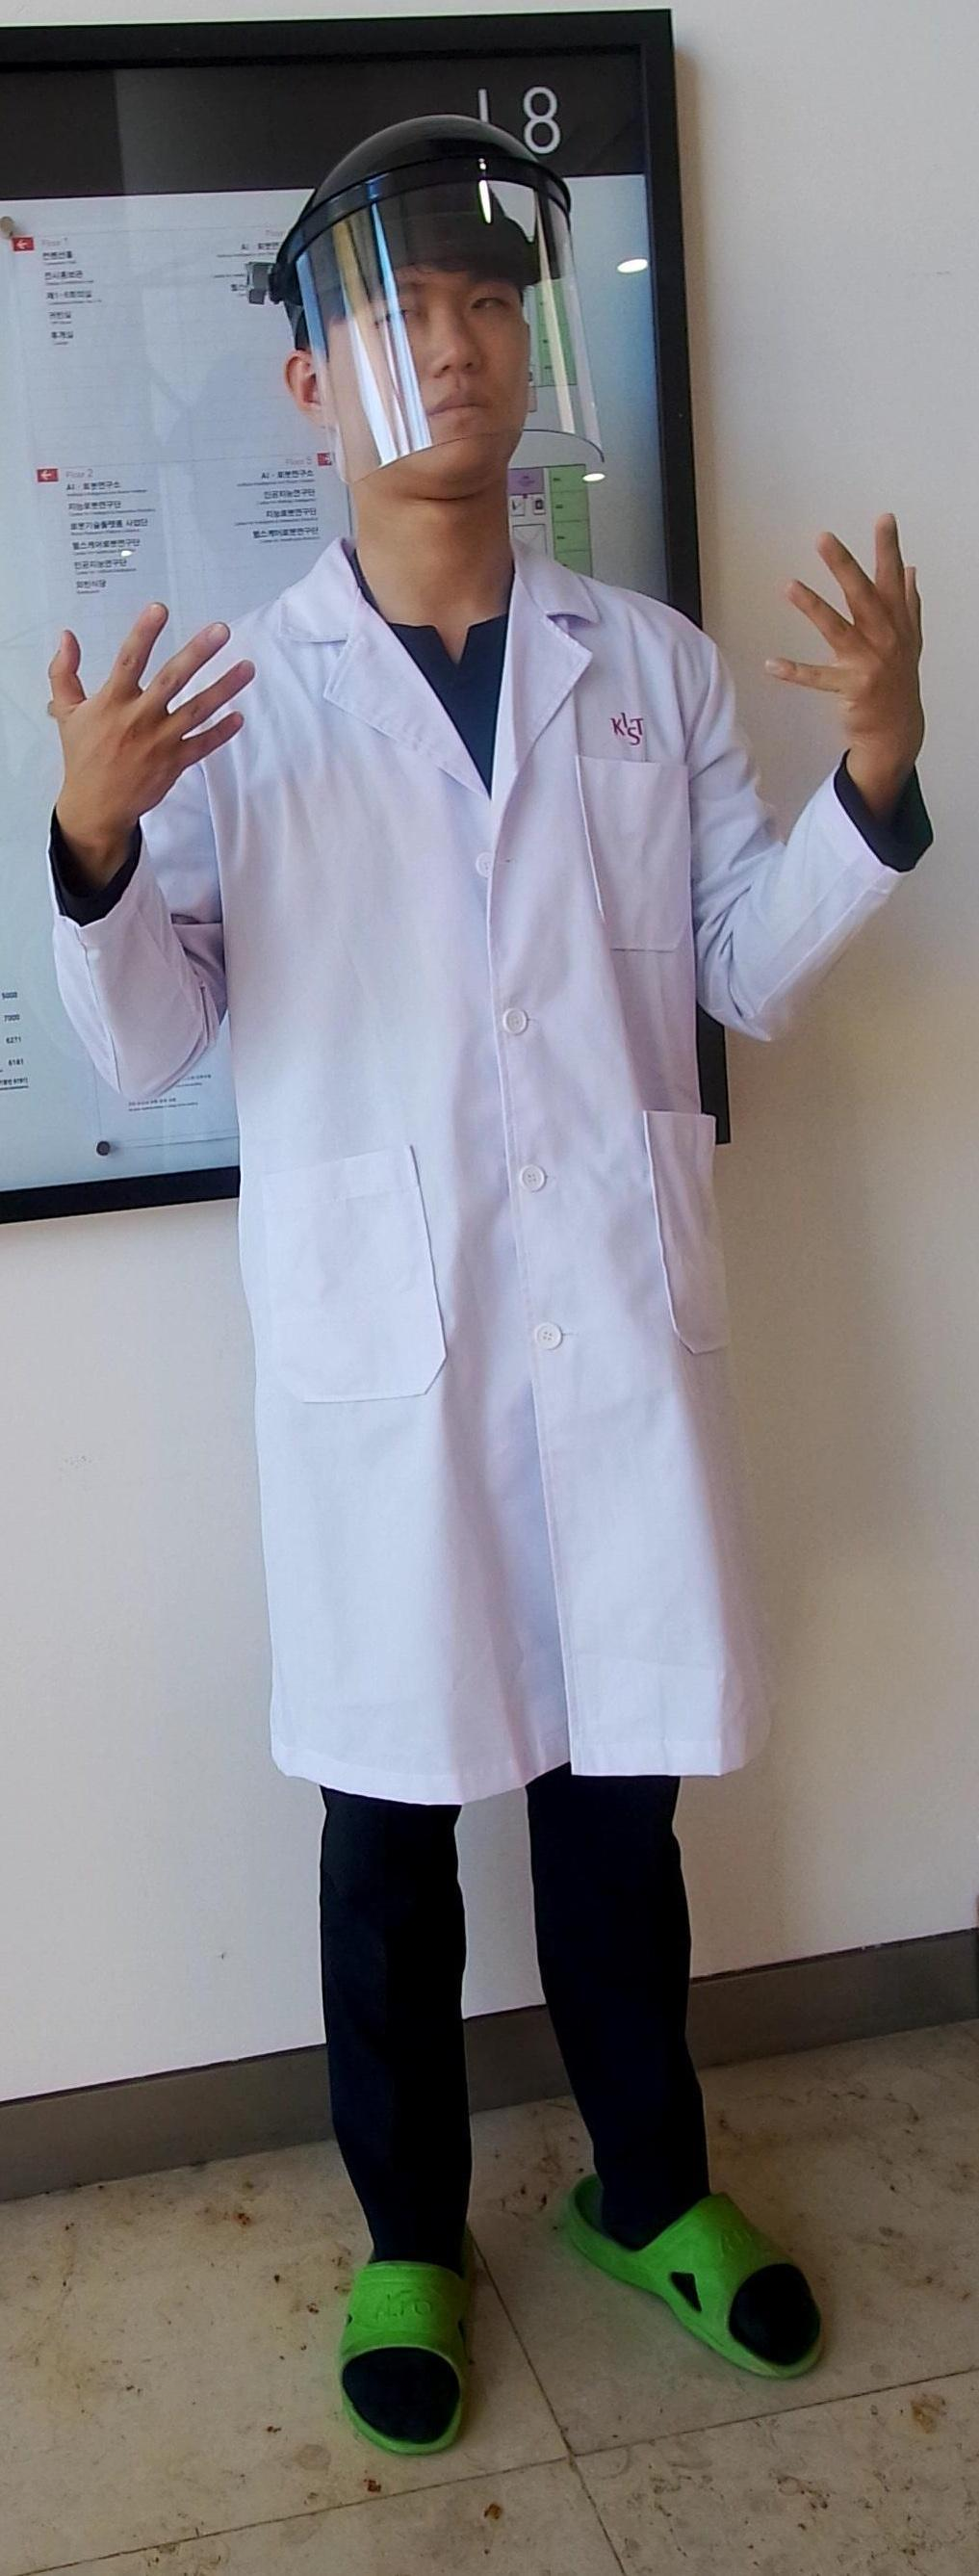lab_coat: (215, 618, 738, 1782)
